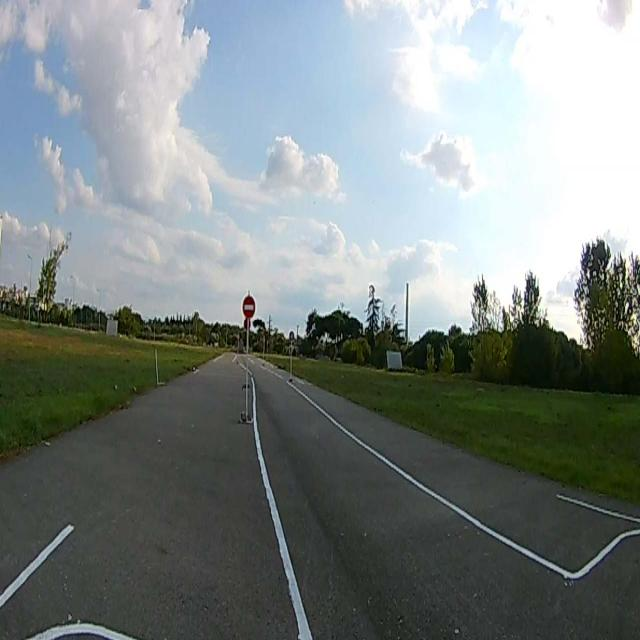girisyok: (242, 296, 256, 320)
